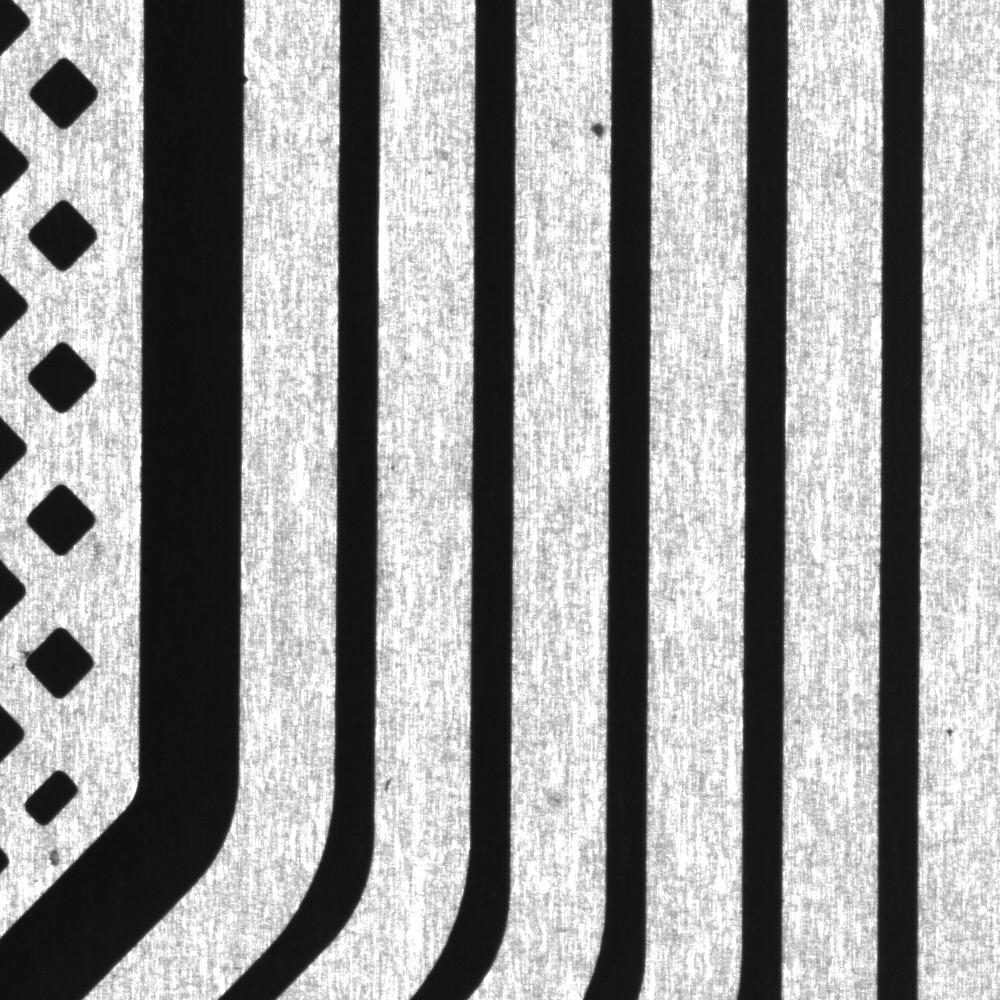Etching: (572, 102, 609, 158), (34, 838, 76, 870), (379, 761, 398, 801)
Pinhole: (941, 714, 965, 743)
